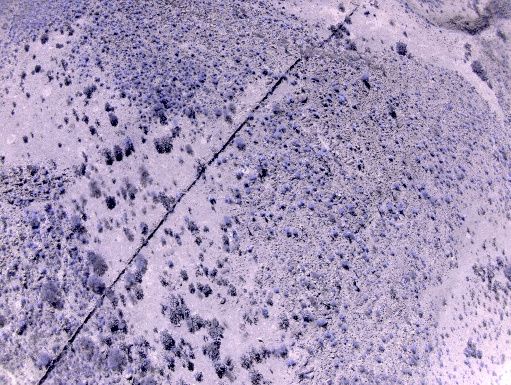agave: (282, 110, 298, 122), (321, 93, 335, 106), (328, 192, 342, 205), (235, 141, 249, 154), (337, 258, 352, 270), (344, 229, 355, 244), (347, 203, 358, 216), (326, 251, 337, 262), (288, 76, 300, 86), (421, 187, 430, 199), (393, 178, 401, 191), (414, 156, 423, 167), (243, 177, 251, 189), (286, 229, 296, 238), (248, 109, 255, 121), (411, 208, 420, 217), (332, 86, 342, 94), (430, 211, 438, 221), (293, 172, 302, 180), (308, 203, 316, 212), (387, 204, 394, 214), (211, 75, 218, 85), (225, 93, 236, 99), (261, 68, 269, 76), (250, 137, 259, 144), (446, 196, 452, 206), (285, 100, 293, 107), (244, 61, 250, 69), (173, 49, 180, 54), (351, 102, 355, 110)
